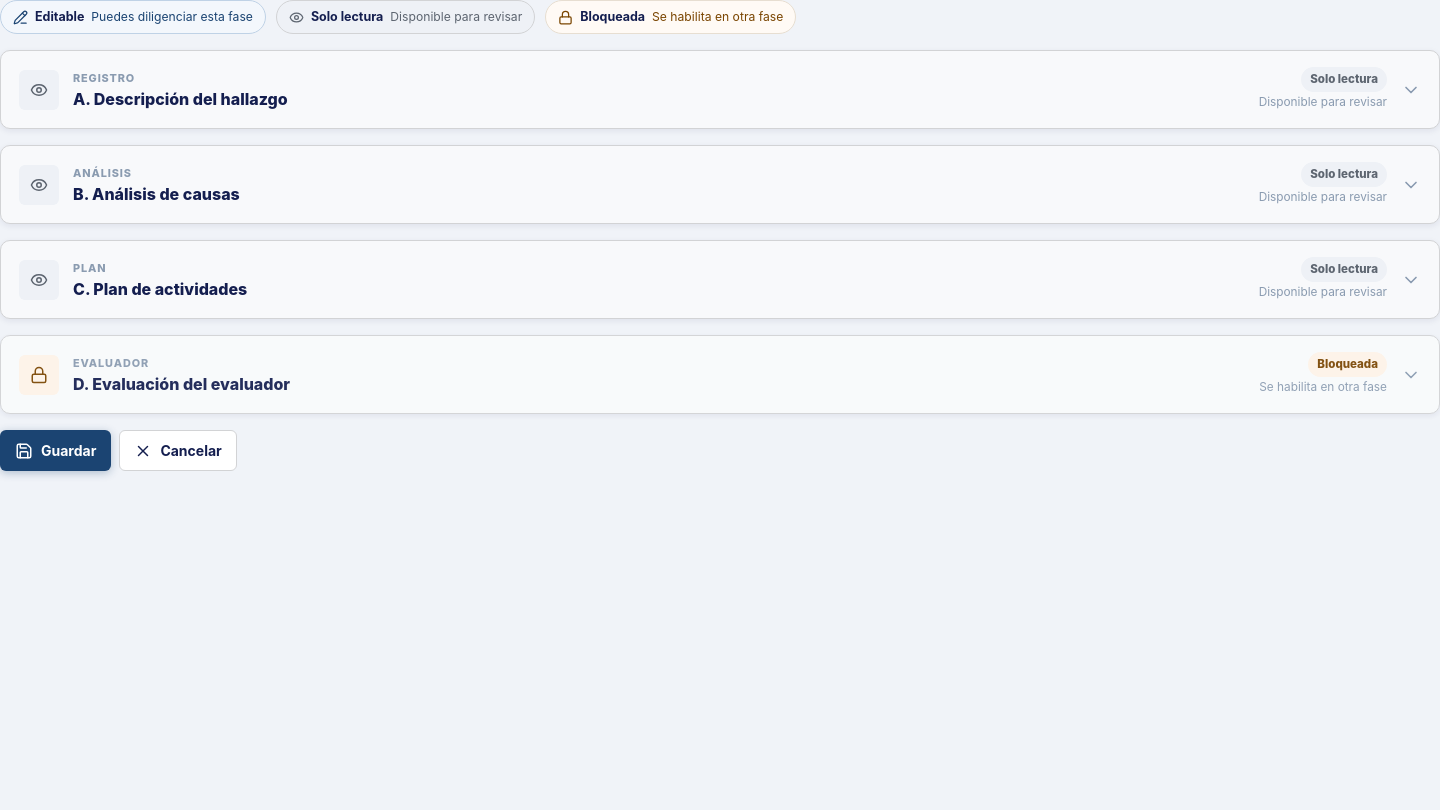
Test: ActionForm role field access › locks plan definitions for CREADOR after review work has begun
Click the button "C. Plan de actividades".
click(39, 280)  # box x1=1 y1=241 x2=1439 y2=318
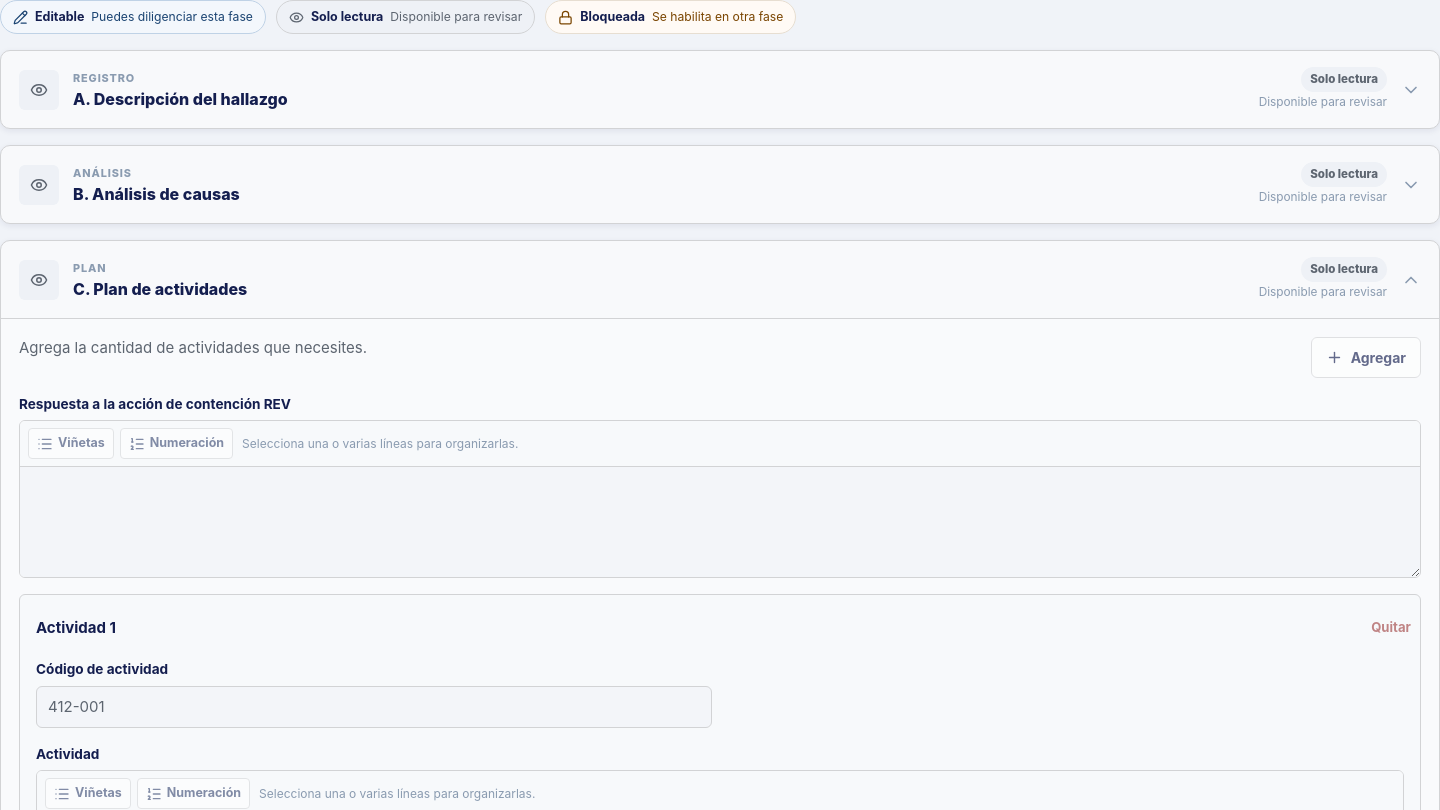
Result: the button "Agregar" is disabled at x1=1311 y1=337 x2=1421 y2=378
Result: the button "Quitar" is disabled at x1=1370 y1=611 x2=1404 y2=645
